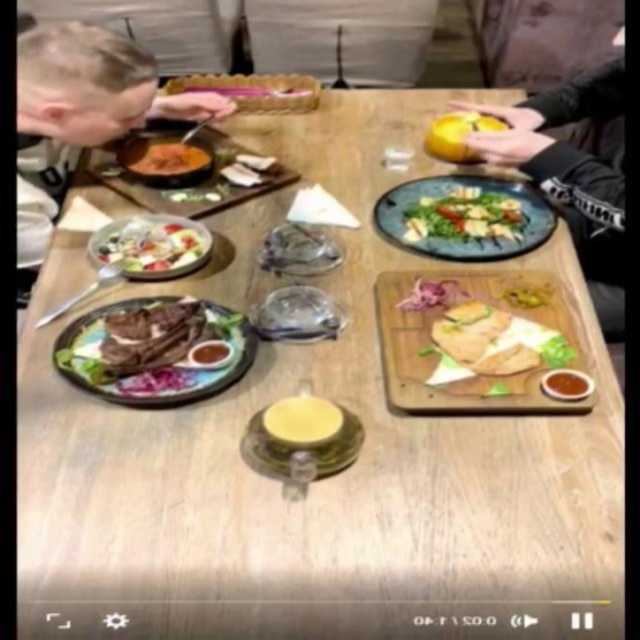meat: (371, 273, 597, 415), (51, 295, 261, 405)
salad: (372, 176, 560, 261), (86, 213, 214, 279)
soup: (81, 124, 303, 220), (426, 113, 511, 163)
tea: (242, 395, 367, 480)
